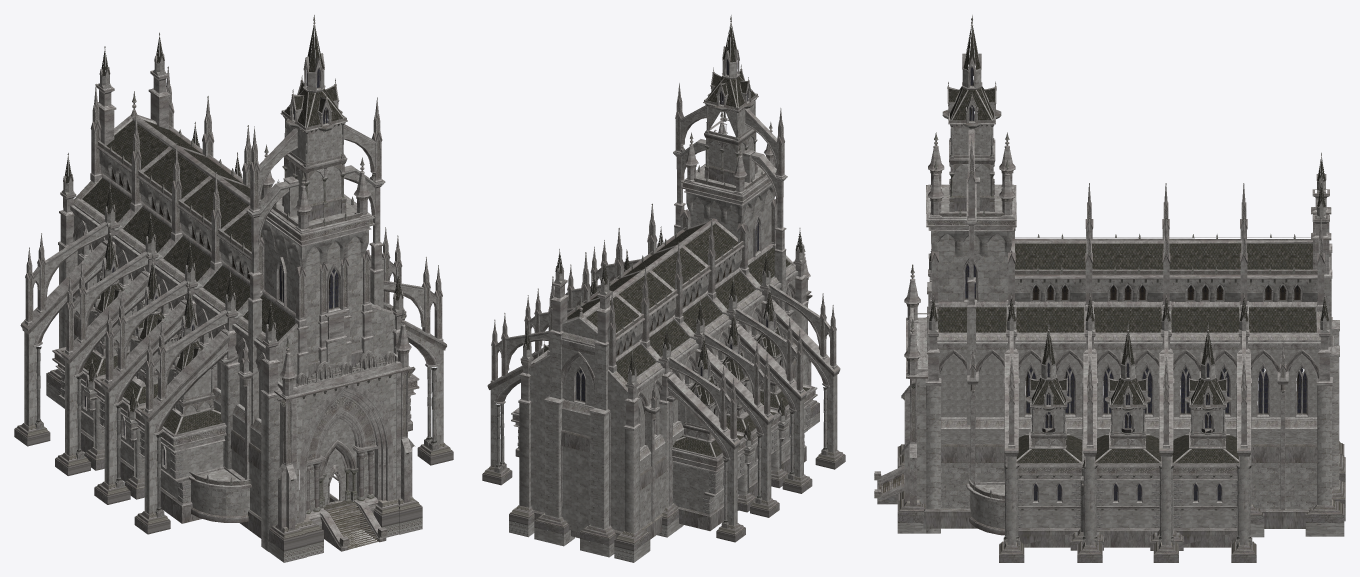
Rendered from eso_ss16_buildingbig1-transformed.glb.
3 renders of one model, left to right at view 1: azimuth 30°, elevation 25°; view 2: azimuth 150°, elevation 25°; view 3: azimuth 270°, elevation 25°, orthographic. The views are drawn at different scales.
Parts seen in each view (by area): view 1: default; view 2: default; view 3: default.
Boxes of the visible parts, x1=… form: default: x1=14, y1=15, x2=453, y2=562; default: x1=482, y1=15, x2=845, y2=562; default: x1=874, y1=15, x2=1345, y2=562.
Bounding box in the file's own units: 106 × 166 × 146.
Materials: 7 (7 with a texture image).
